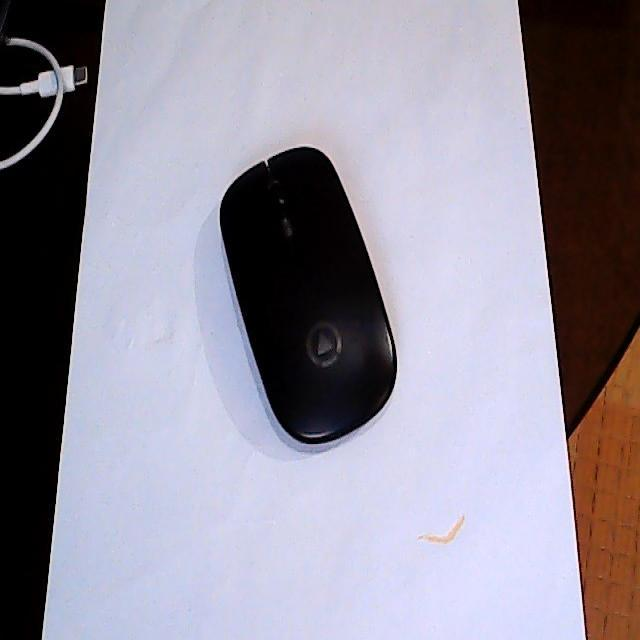-keyboard-: (218, 145, 401, 447)
